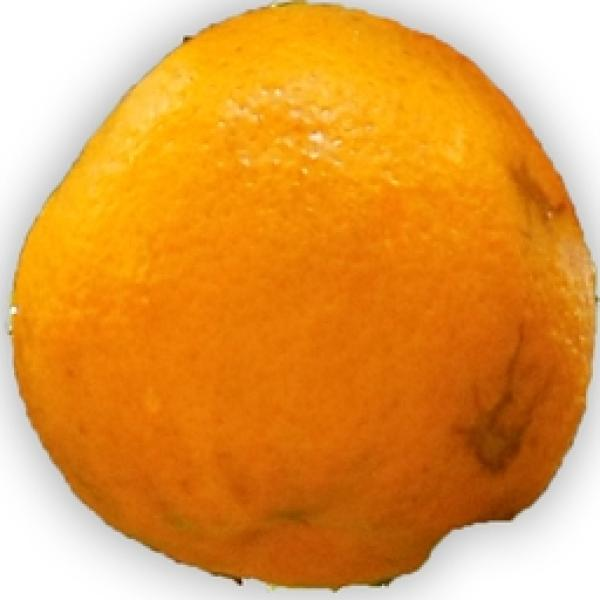Machas negras: (0, 2, 584, 588)
